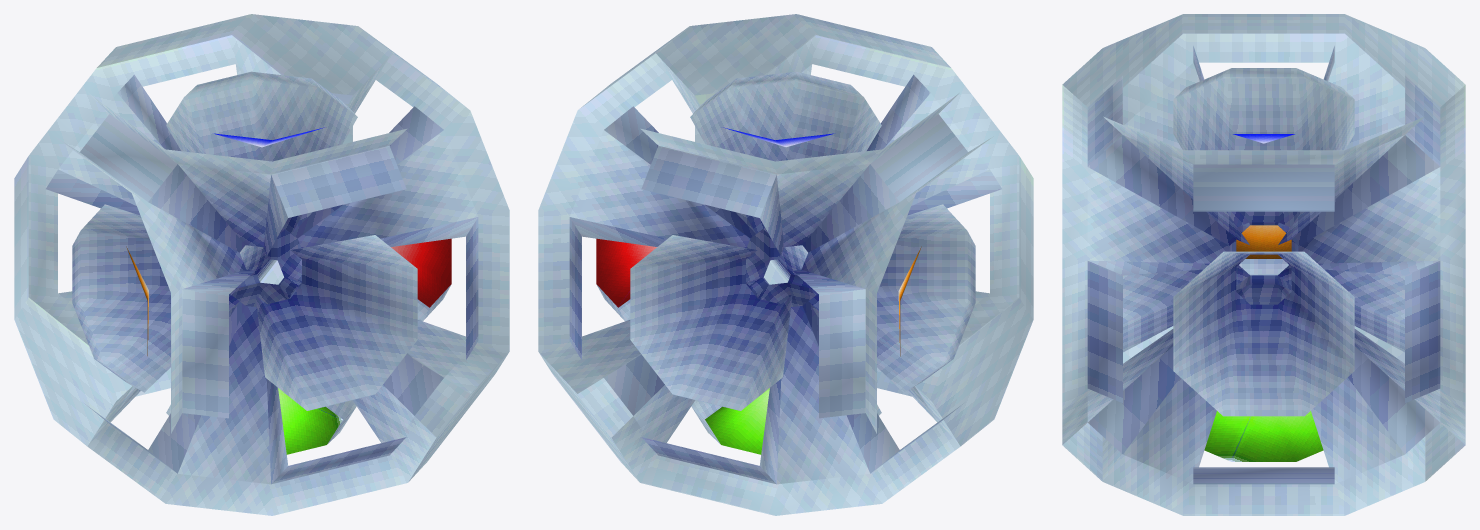
File: ps2_save-icons_zoocube.glb
The picture shows the model from 3 angles, left to right: view 1: azimuth 30°, elevation 25°; view 2: azimuth 150°, elevation 25°; view 3: azimuth 270°, elevation 25°; orthographic projection. The views are drawn at different scales.
Parts seen in each view (by area): view 1: static.ico; view 2: static.ico; view 3: static.ico.
Boxes of the visible parts, bbox=[...] form: static.ico: bbox=[14, 14, 509, 515]; static.ico: bbox=[538, 14, 1033, 515]; static.ico: bbox=[1062, 14, 1465, 515].
Size of the model in its own units: 4.69 by 4.69 by 4.69.
1 material, 1 textured.
